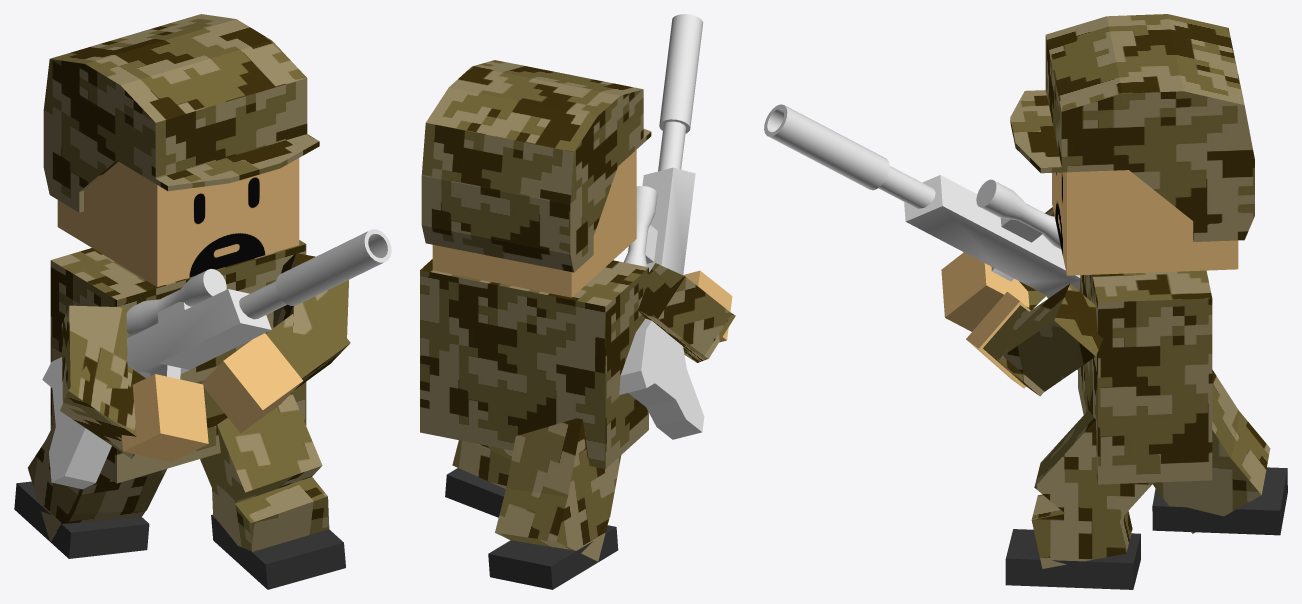
Rendered from Soldier_Cha.FBX.
The picture shows the model from 3 angles, left to right: view 1: azimuth 30°, elevation 25°; view 2: azimuth 150°, elevation 25°; view 3: azimuth 270°, elevation 25°; orthographic projection. The views are drawn at different scales.
Parts seen in each view (by area): view 1: Box019, Box018, Line001, Box001, Box014, Box010, Box016, Box012, Box008, Box015, Box004, Box009 (+4 smaller); view 2: Box019, Box001, Line001, Box018, Box003, Box002, Box008, Box004, Box015, Box016, Box010, Box009; view 3: Box019, Box001, Line001, Box018, Box014, Box013, Box015, Box002, Box004, Box016, Box010, Box003 (+2 smaller).
Boxes of the visible parts, x1,y1,x2,y2 form: Box019: (43,14,319,212); Box018: (57,158,299,286); Line001: (42,229,391,489); Box001: (50,240,306,483); Box014: (200,392,322,515); Box010: (121,374,208,461); Box016: (211,475,329,551); Box012: (201,333,302,433); Box008: (61,305,127,402); Box015: (211,514,345,589); Box004: (14,481,149,558); Box009: (60,366,145,458); Box019: (421,60,651,272); Box001: (420,259,648,468); Line001: (619,14,704,439); Box018: (432,150,636,297); Box003: (506,418,621,516); Box002: (495,488,609,561); Box008: (638,263,731,356); Box004: (488,525,618,589); Box015: (445,468,505,517); Box016: (452,440,511,488); Box010: (683,270,732,342); Box009: (665,313,735,362); Box019: (1010,14,1254,241); Box001: (1078,270,1212,484); Line001: (764,104,1080,370); Box018: (1052,170,1238,275); Box014: (1034,410,1153,542); Box013: (1003,283,1103,391); Box015: (1005,529,1140,589); Box002: (1162,412,1270,533); Box004: (1152,467,1287,535); Box016: (1031,494,1132,568); Box010: (941,252,1029,331); Box003: (1153,370,1239,496).
Bounding box in the file's own units: 118 × 190 × 183.
4 materials, 4 textured.
